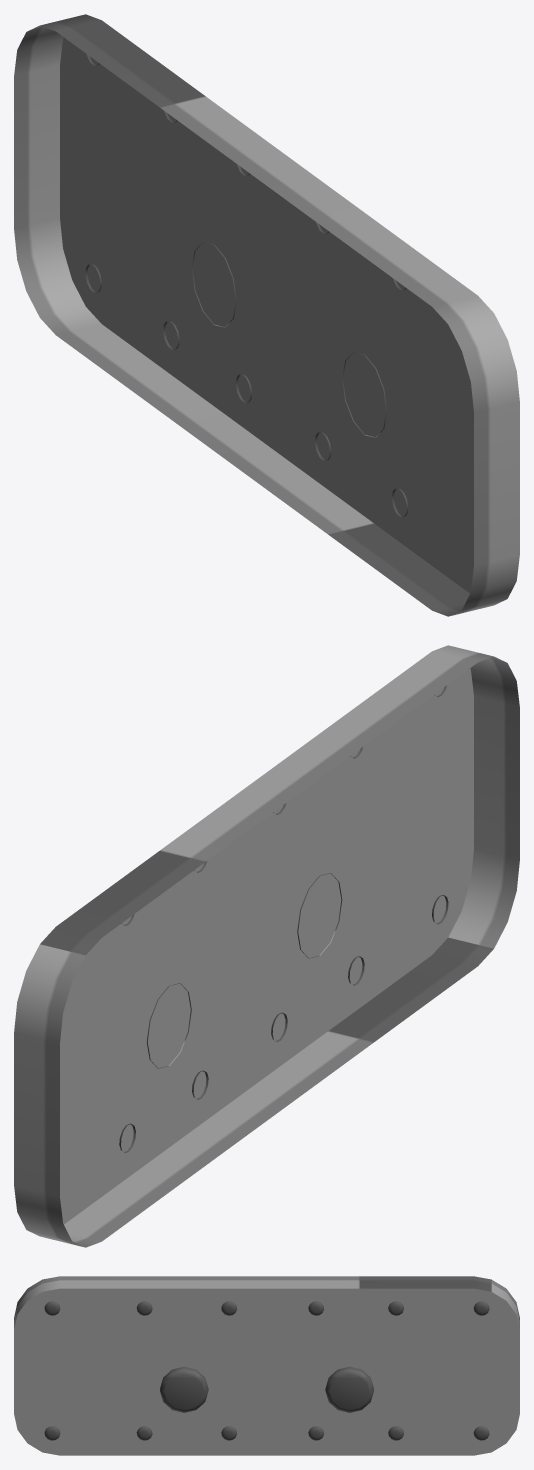
The model's file is SM_levier_socle_2main_low.fbx.
3 views of the same model, one above another, from view 1: azimuth 30°, elevation 25°; view 2: azimuth 150°, elevation 25°; view 3: azimuth 270°, elevation 25° (orthographic). The views are drawn at different scales.
Visible parts, largest first — view 1: SM_levier_socle_2main_low; view 2: SM_levier_socle_2main_low; view 3: SM_levier_socle_2main_low.
Part boxes in pixels (x1,y1,x2,y2): SM_levier_socle_2main_low: [14, 14, 519, 616]; SM_levier_socle_2main_low: [14, 645, 519, 1247]; SM_levier_socle_2main_low: [14, 1276, 519, 1455].
Size of the model in its own units: 0.0744 by 0.3644 by 1.
1 material, 1 textured.
